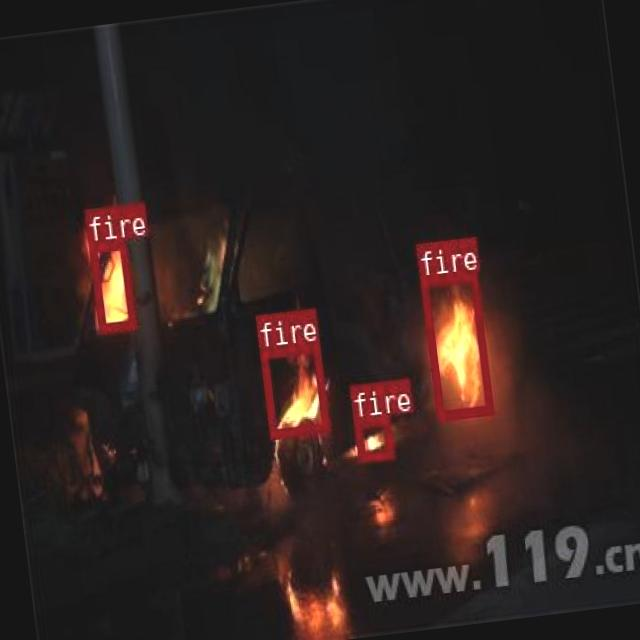fire: (419, 270, 492, 420), (256, 339, 328, 438), (86, 238, 136, 332), (352, 414, 392, 460)
